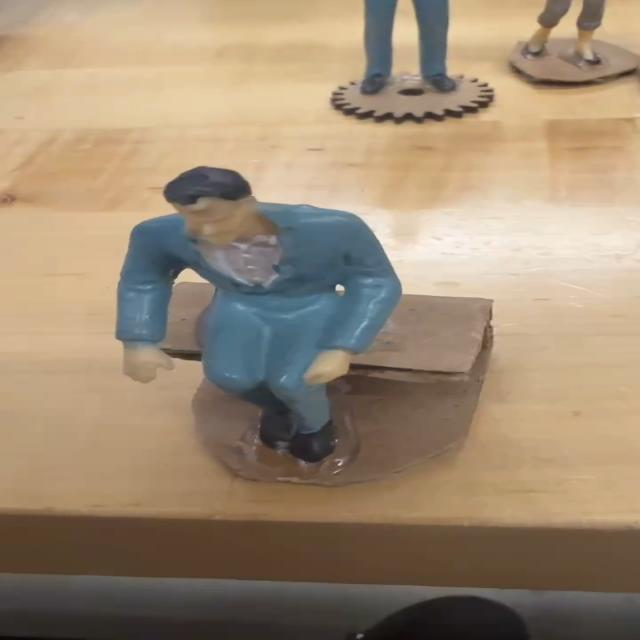Authorized: (114, 168, 404, 464)
